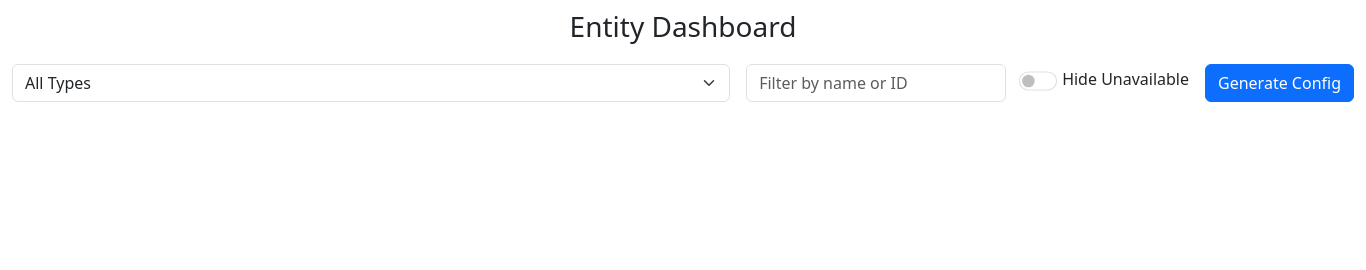
it: RawEntityView.vue › Areas Display › displays area name and id
Select "area" in the dropdown at [371, 83], box [12,64,730,102]
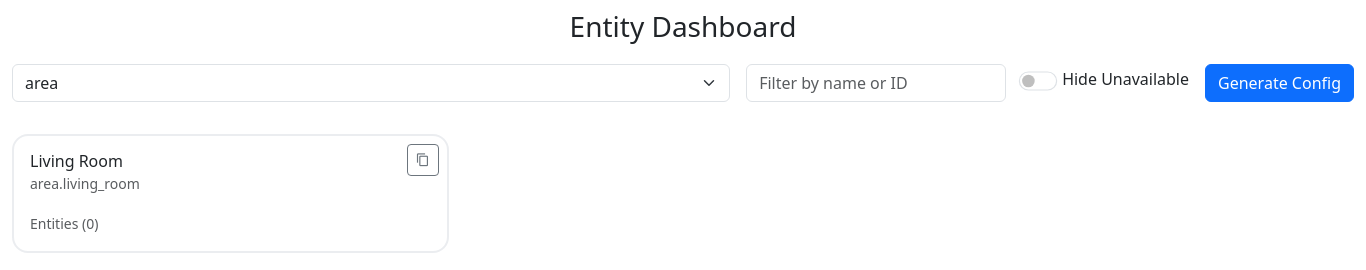
Expected: the text "Living Room" is shown, [30,150,123,172]
Expected: the text "area.living_room" is shown, [30,174,140,193]
